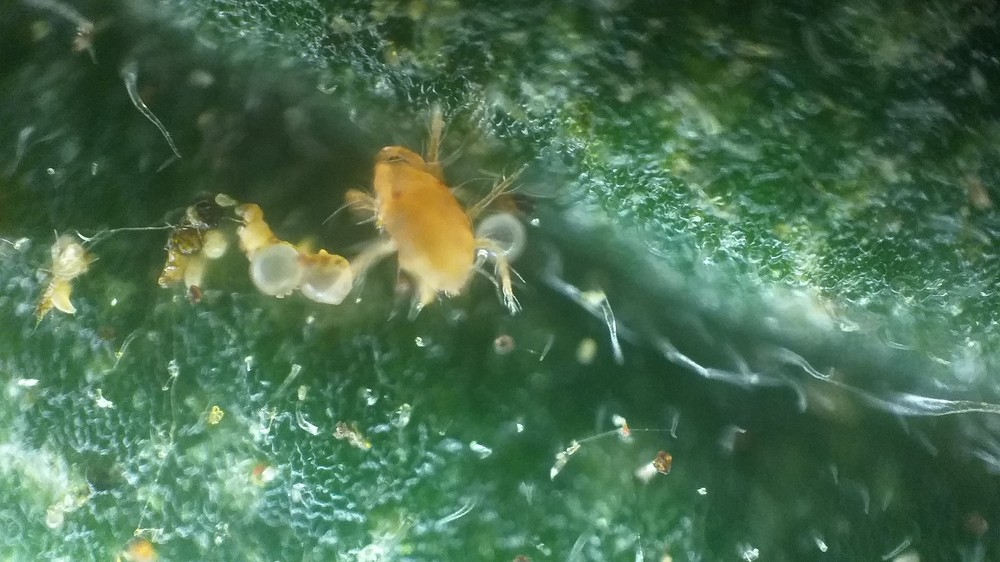Aracnido Rojo: (331, 97, 543, 337)
